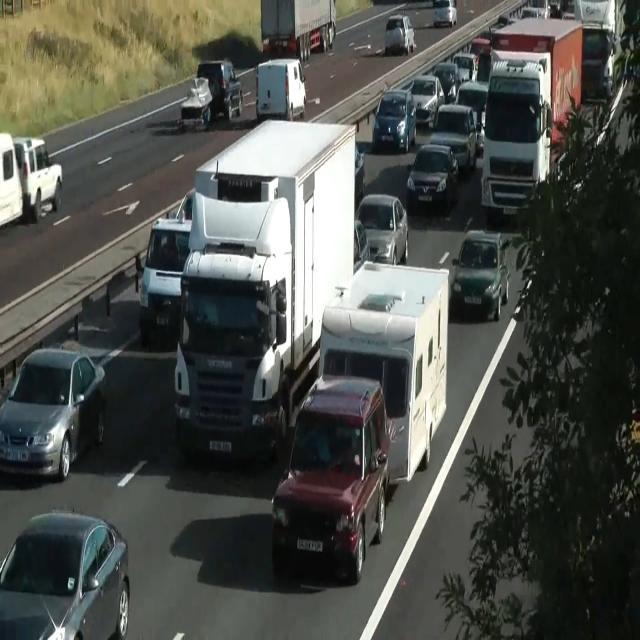bus: (0, 508, 130, 639), (0, 347, 106, 481), (450, 229, 510, 321), (355, 193, 409, 265), (406, 143, 458, 213), (454, 80, 488, 152), (399, 75, 445, 128), (432, 62, 462, 104), (384, 14, 415, 54), (353, 218, 370, 276), (451, 52, 477, 84), (354, 143, 365, 205), (433, 0, 457, 28), (520, 7, 548, 20)
jeep: (271, 373, 391, 584), (134, 214, 192, 340), (13, 134, 63, 222), (429, 102, 477, 172), (372, 88, 416, 153), (197, 58, 243, 120), (580, 23, 616, 101), (0, 130, 24, 228), (178, 76, 212, 130)
minibus: (173, 117, 357, 466), (318, 259, 450, 485), (480, 16, 582, 222), (260, 0, 336, 62), (255, 57, 307, 122)
